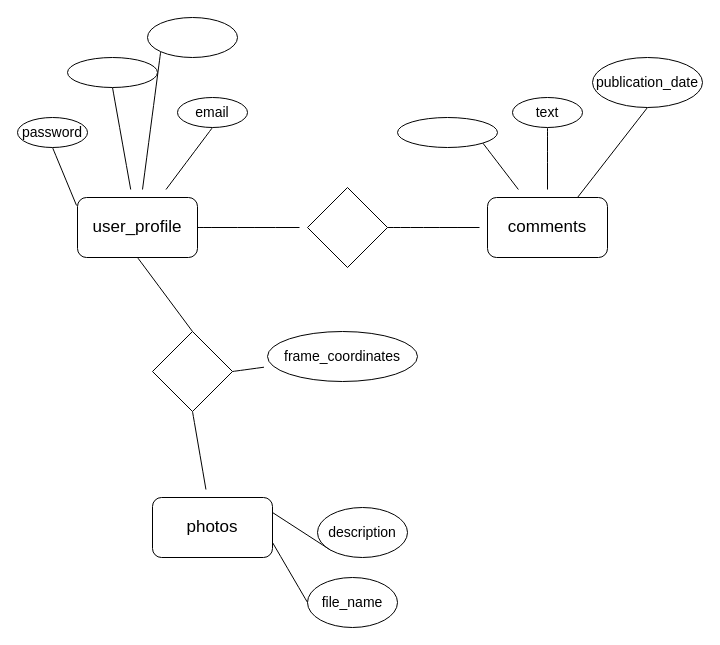
This 720x645 diagram has some shape labels left out. Each missing label, with the centre of its shape:
"fk_user_name" goes at point (447, 132).
"frame" goes at point (192, 371).
"full_name" goes at point (112, 72).
"user_name" goes at point (192, 37).
"write" goes at point (347, 227).
